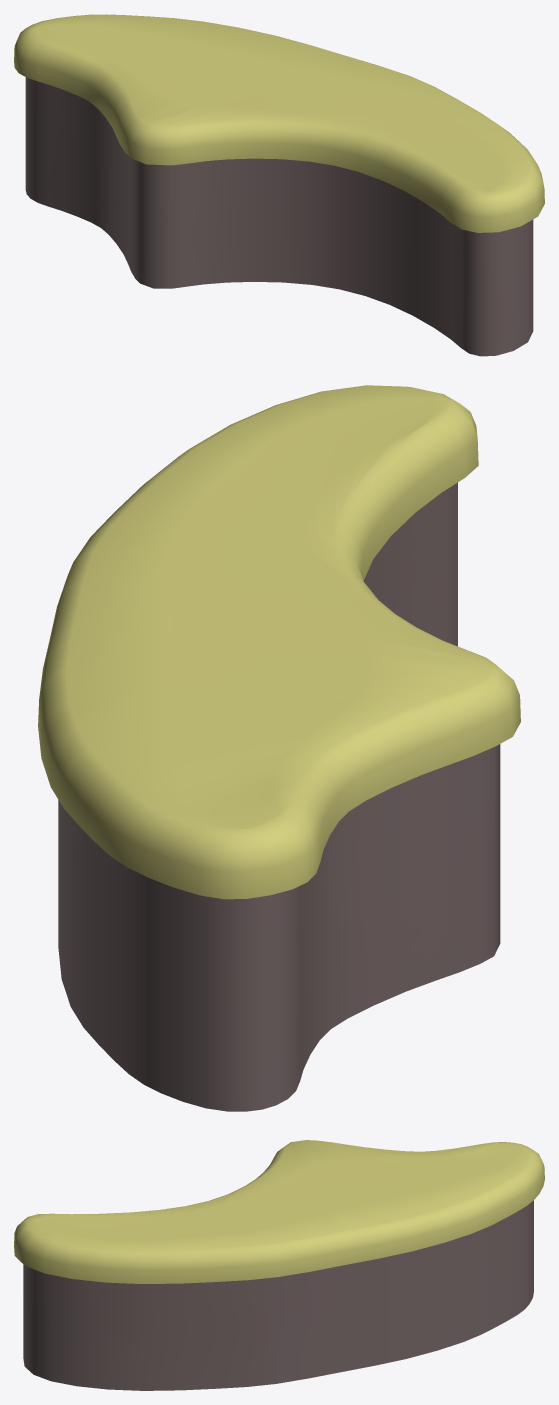
File: Mountains-04.fbx
The picture shows the model from 3 angles, top to bottom: view 1: azimuth 30°, elevation 25°; view 2: azimuth 150°, elevation 25°; view 3: azimuth 270°, elevation 25°; orthographic projection. The views are drawn at different scales.
Parts seen in each view (by area): view 1: Mountains-04; view 2: Mountains-04; view 3: Mountains-04.
Boxes of the visible parts, bbox=[...] form: Mountains-04: bbox=[14, 14, 544, 356]; Mountains-04: bbox=[38, 385, 520, 1111]; Mountains-04: bbox=[14, 1140, 544, 1390].
Bounding box in the file's own units: 35273 × 18762 × 64740.
